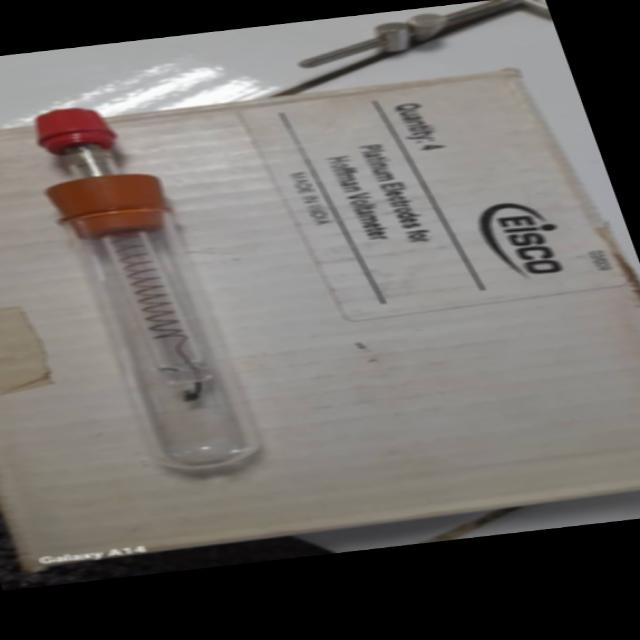Electrode: (7, 95, 286, 477)
